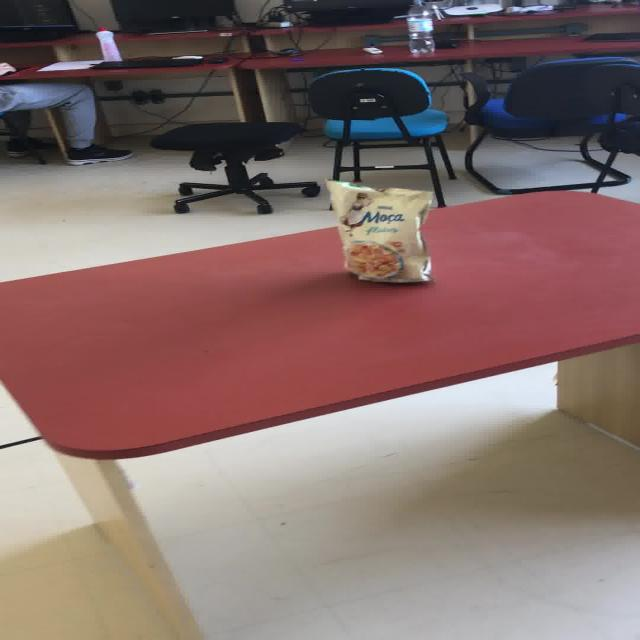corn flakes: (324, 179, 433, 282), (346, 240, 401, 278)
